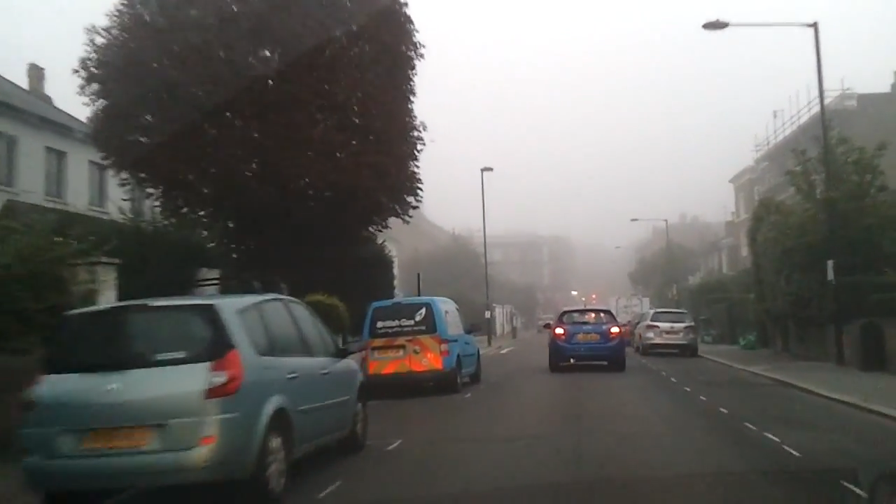bus: (609, 295, 653, 348)
car: (10, 291, 369, 504), (357, 295, 483, 398), (541, 307, 628, 374), (634, 309, 699, 357), (627, 311, 672, 353), (535, 314, 557, 334)
